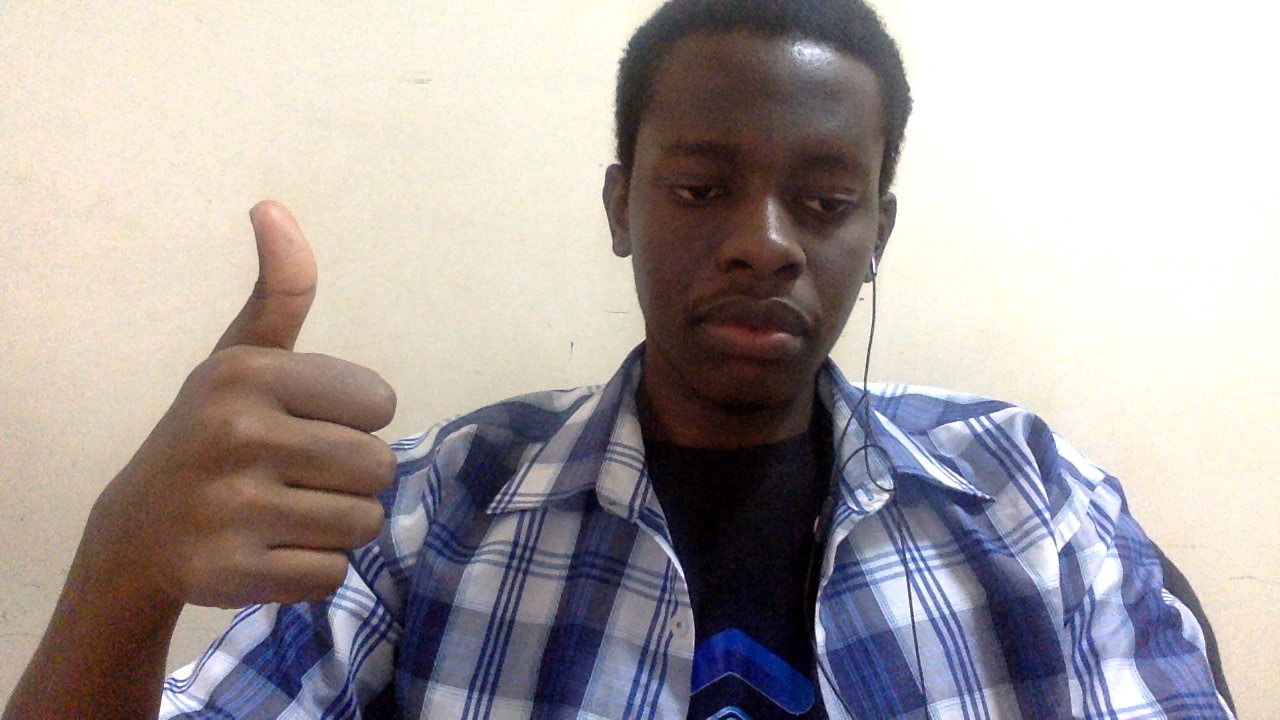ThumbsUp: (133, 197, 400, 614)
